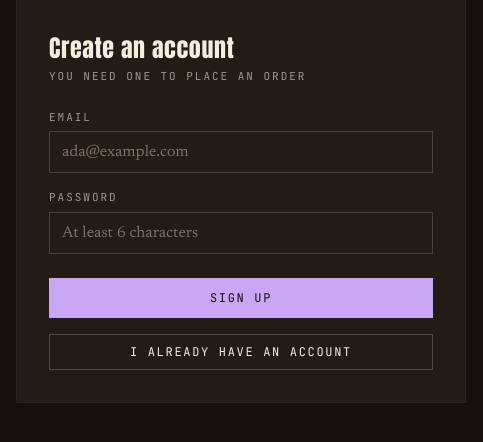
<AuthPage /> › does not submit a malformed email address
Type "notanemail" into the field labelled "Email". click: [241, 152]
box: [49,131,433,173]
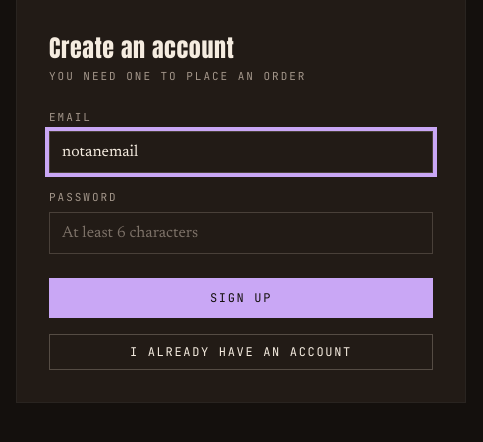
Type "hunter2" into the password field labelled "Password". click: [241, 232]
box: [49,212,433,254]
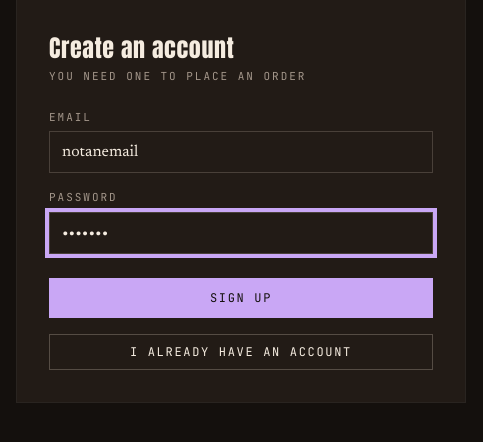
Click the button "Sign up". click: [241, 298]
box: [49,278,433,318]
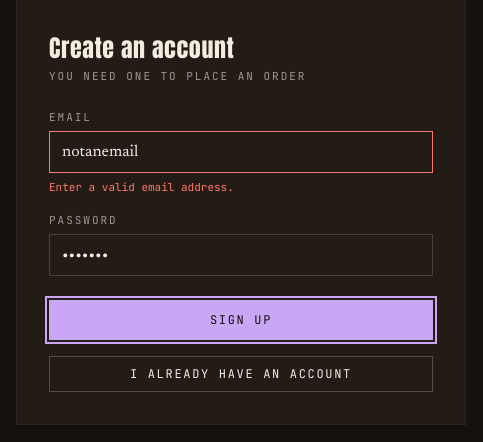
Now the text "Enter a valid email address." is shown, box [49,180,234,194]
